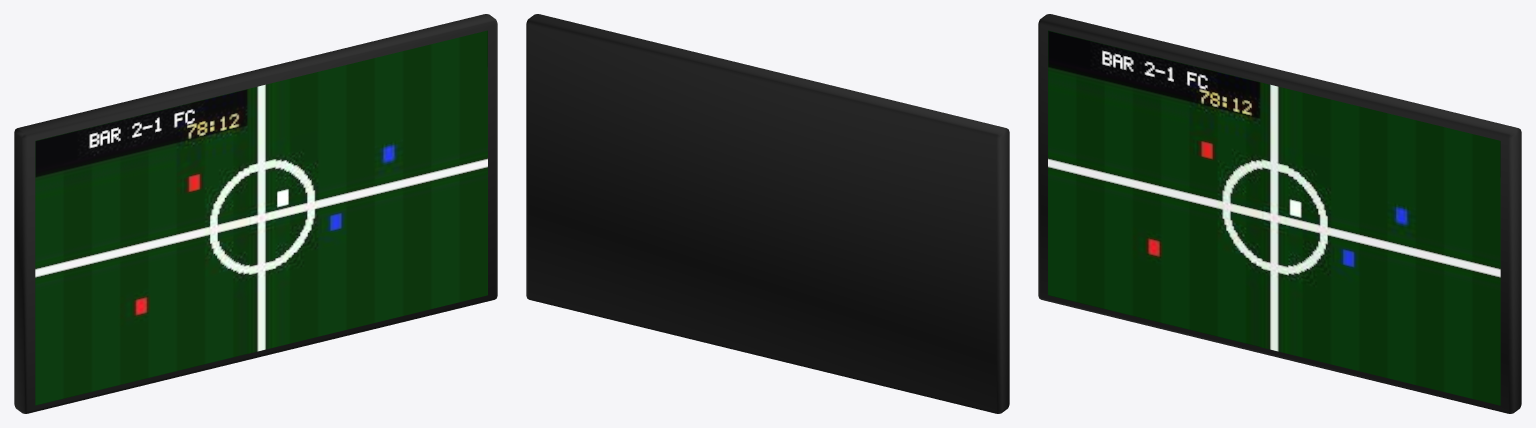
Rendered from wall_tv.glb.
3 views of the same model, side by side, from view 1: azimuth 30°, elevation 25°; view 2: azimuth 150°, elevation 25°; view 3: azimuth 330°, elevation 25° (orthographic).
Visible parts, largest first — view 1: TV screen, TV body; view 2: TV body; view 3: TV screen, TV body.
Part boxes in pixels (x1,y1,x2,y2): TV screen: (35,30,487,405); TV body: (14,14,497,413); TV body: (526,14,1009,413); TV screen: (1048,30,1500,405); TV body: (1038,14,1521,413).
Bounding box in the file's own units: 1.24 × 0.7 × 0.0505.
Materials: 2 (1 with a texture image).
